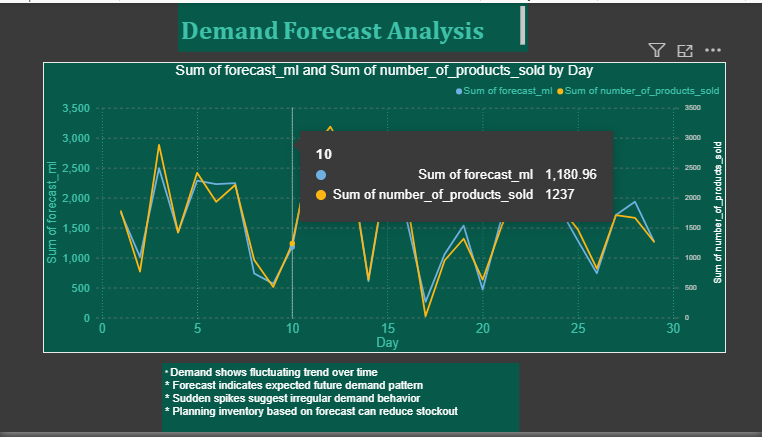

The dashboard page shown, as its layout file describes it:
{"tool":"powerbi","page":{"name":"Demand Forecast","canvas":[1280,720],"ordinal":1},"visuals":[{"type":"textbox","box":[299,0,587.9,82.3],"z":0},{"type":"lineChart","fields":{"Category":["final_forecast_data.date.Variation.Date Hierarchy.Day"],"Y":["Sum(final_forecast_data.forecast_ml)"],"Y2":["Sum(final_forecast_data.number_of_products_sold)"]},"box":[72.2,99.1,1147.3,488.8],"z":1000},{"type":"textbox","box":[272.1,604.7,599.7,115.9],"z":1001}]}

Visuals, with their boxes in screenshot pixels (x1, y1, x2, y2), scaled from the page's 1280x720 canvas onto the 762x437 screenshot:
textbox: region(178, 0, 528, 50)
lineChart - final_forecast_data.date.Variation.Date Hierarchy.Day x Sum(final_forecast_data.forecast_ml): region(43, 60, 726, 357)
textbox: region(162, 367, 519, 436)
